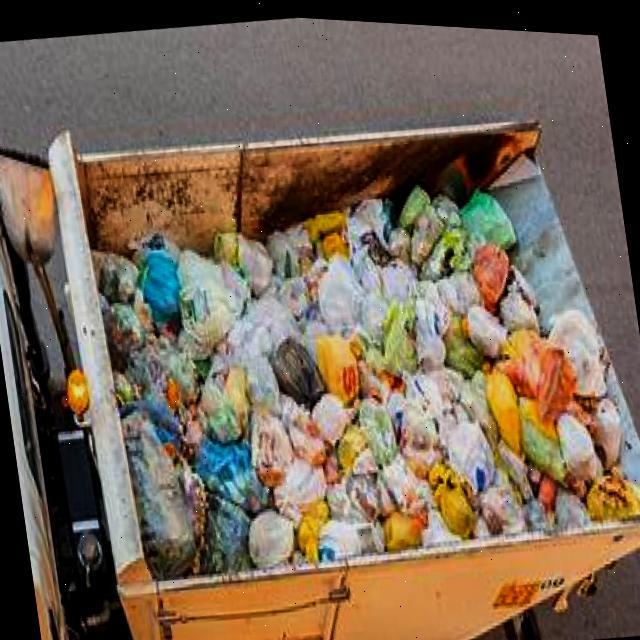Garbage: (93, 182, 640, 572)
Plastic_Bag: (95, 182, 640, 574)
